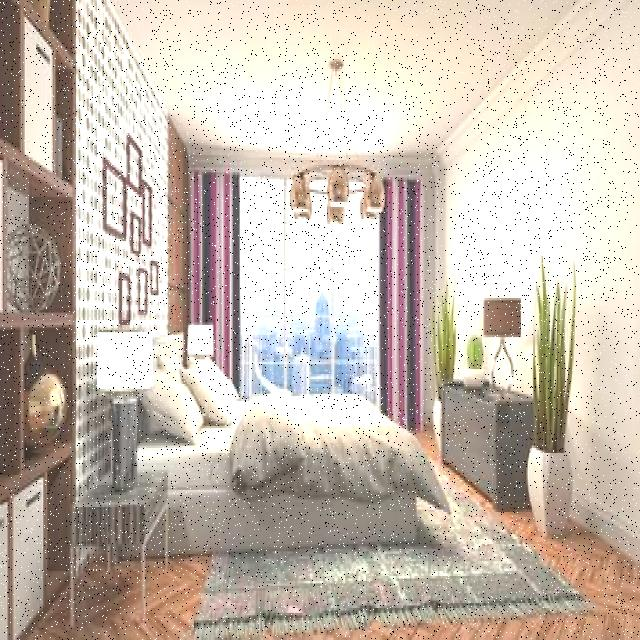bed: (136, 335, 416, 531)
